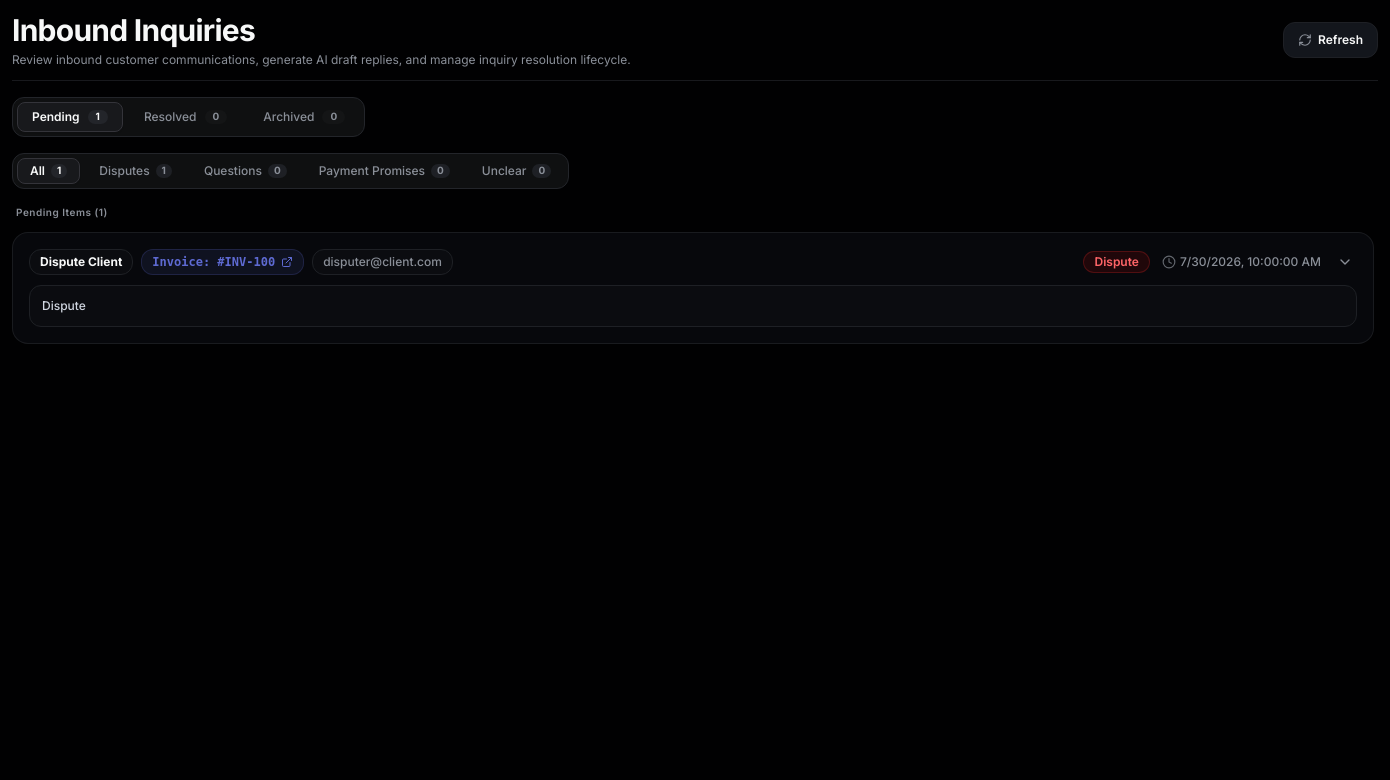
Test case: Disputes page status tabs, navigation, and actions › suggests dispute-specific chips when classification is dispute
Click the text "disputer@client.com": [383, 262] box [312,249,453,275]
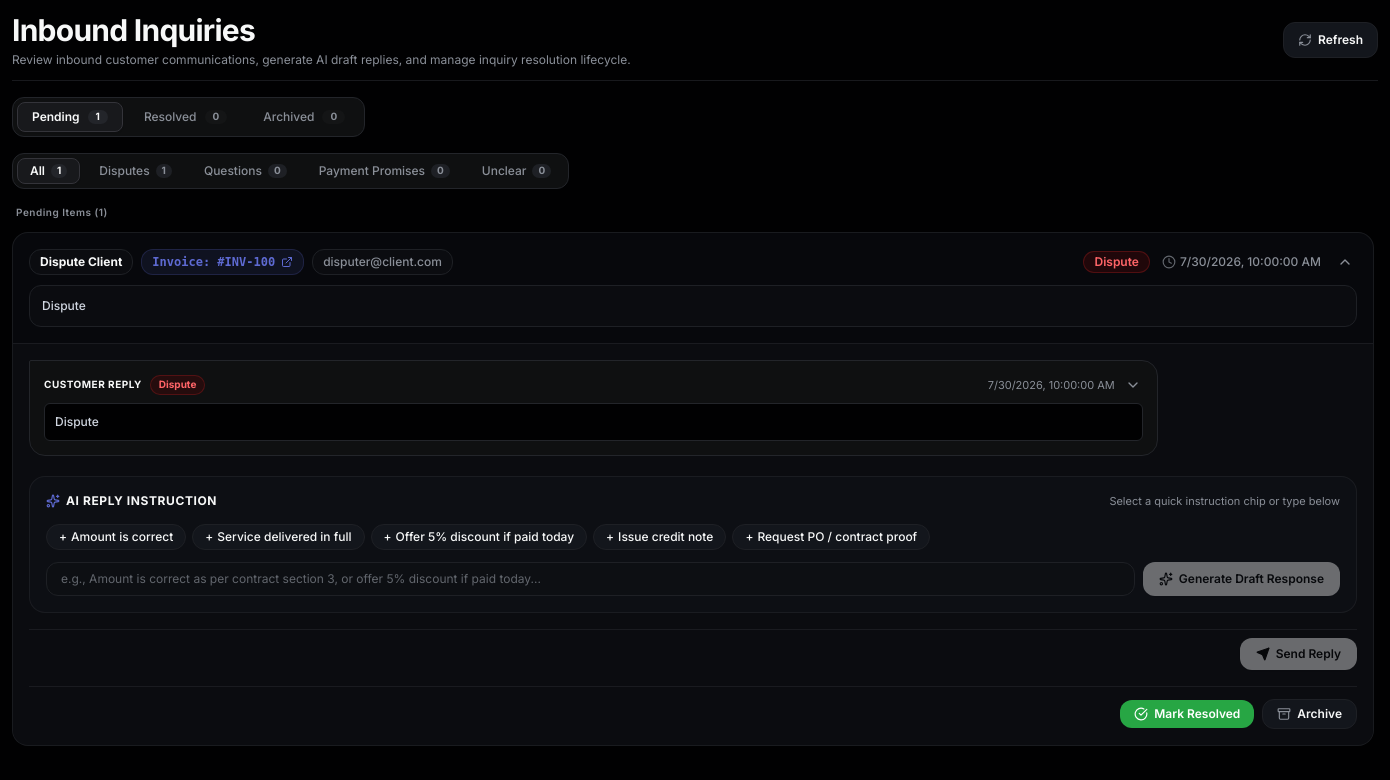
Expected: the text "Amount is correct" is shown, [71,528,173,544]
Expected: the text "Service delivered in full" is shown, [217,528,352,544]
Expected: the text "Offer 5% discount if paid today" is shown, [396,528,574,544]
